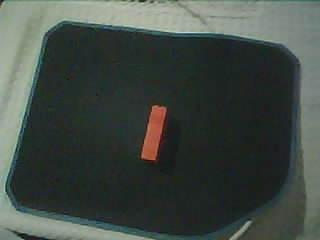lego: (140, 104, 168, 162)
